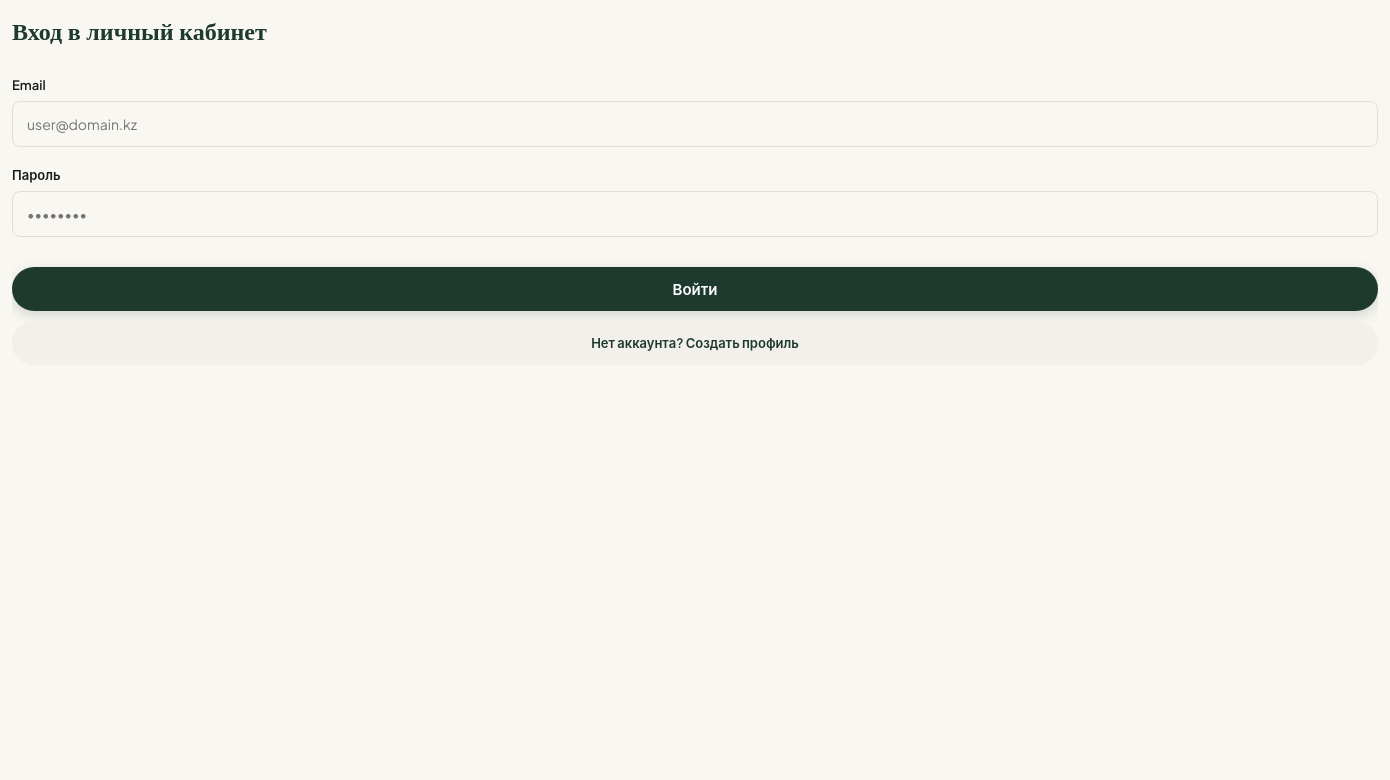
Test: LoginForm › регистрация показывает details и помечает неверное поле
Click the button "Нет аккаунта? Создать профиль" at coordinates (695, 344), box [12,322,1378,366]
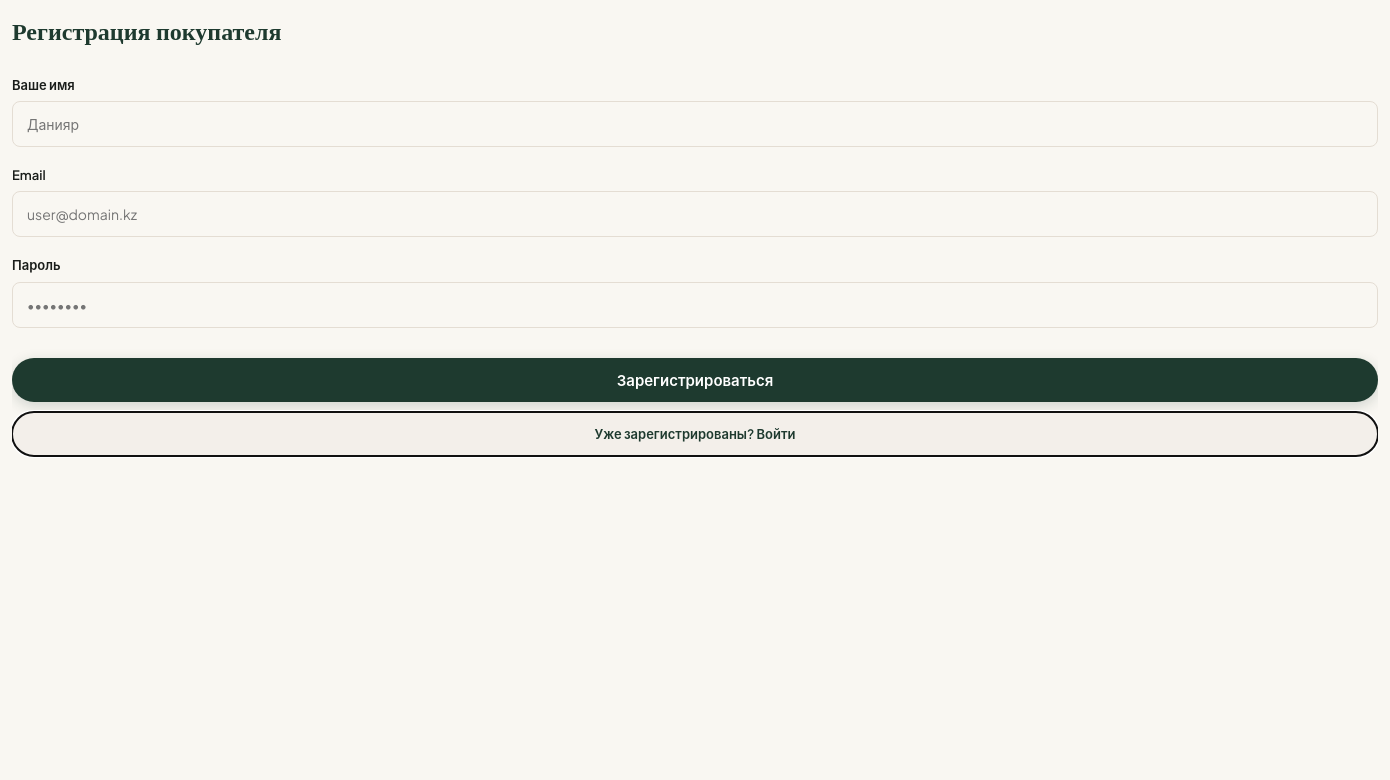
Type "Покупатель" into the field labelled "Ваше имя" at coordinates (695, 124), box [12,101,1378,147]
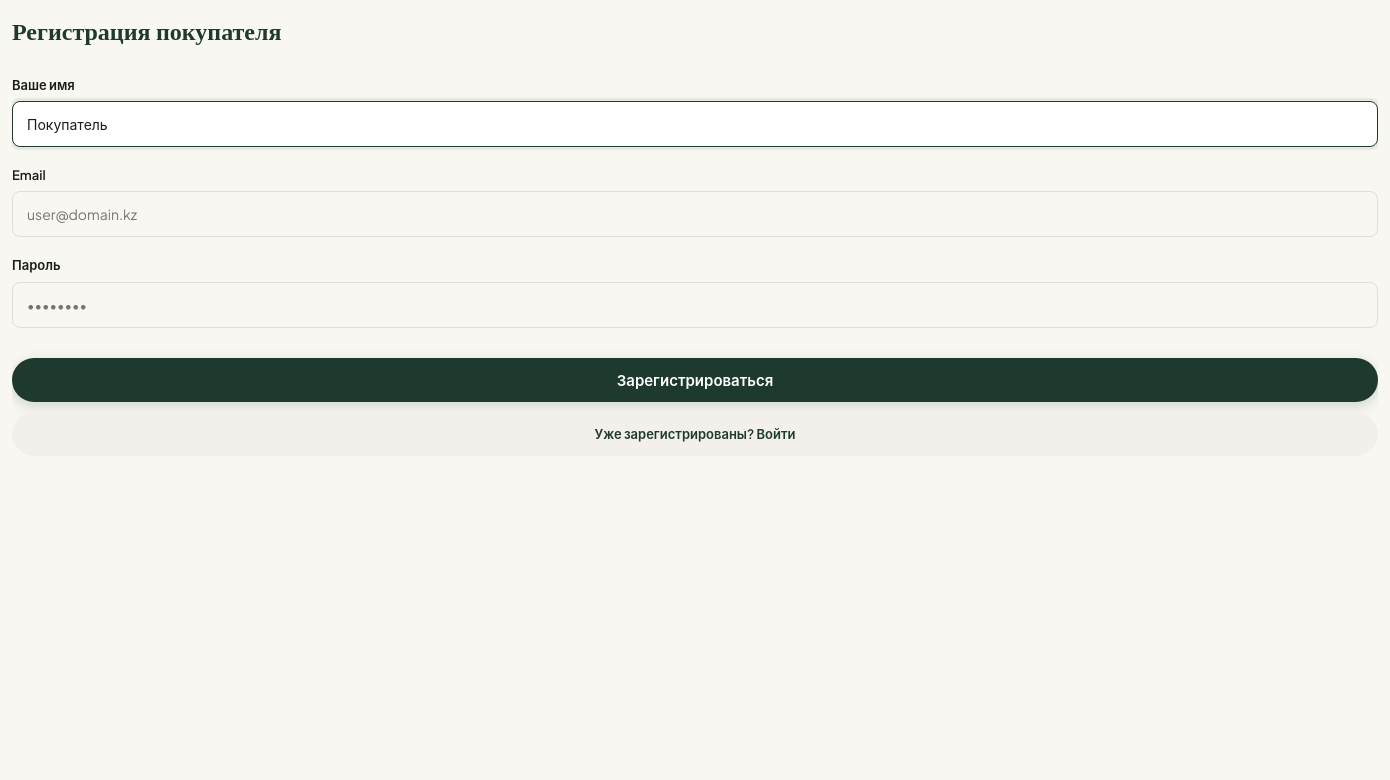
Type "buyer@test.kz" into the field labelled "Email" at coordinates (695, 214), box [12,192,1378,238]
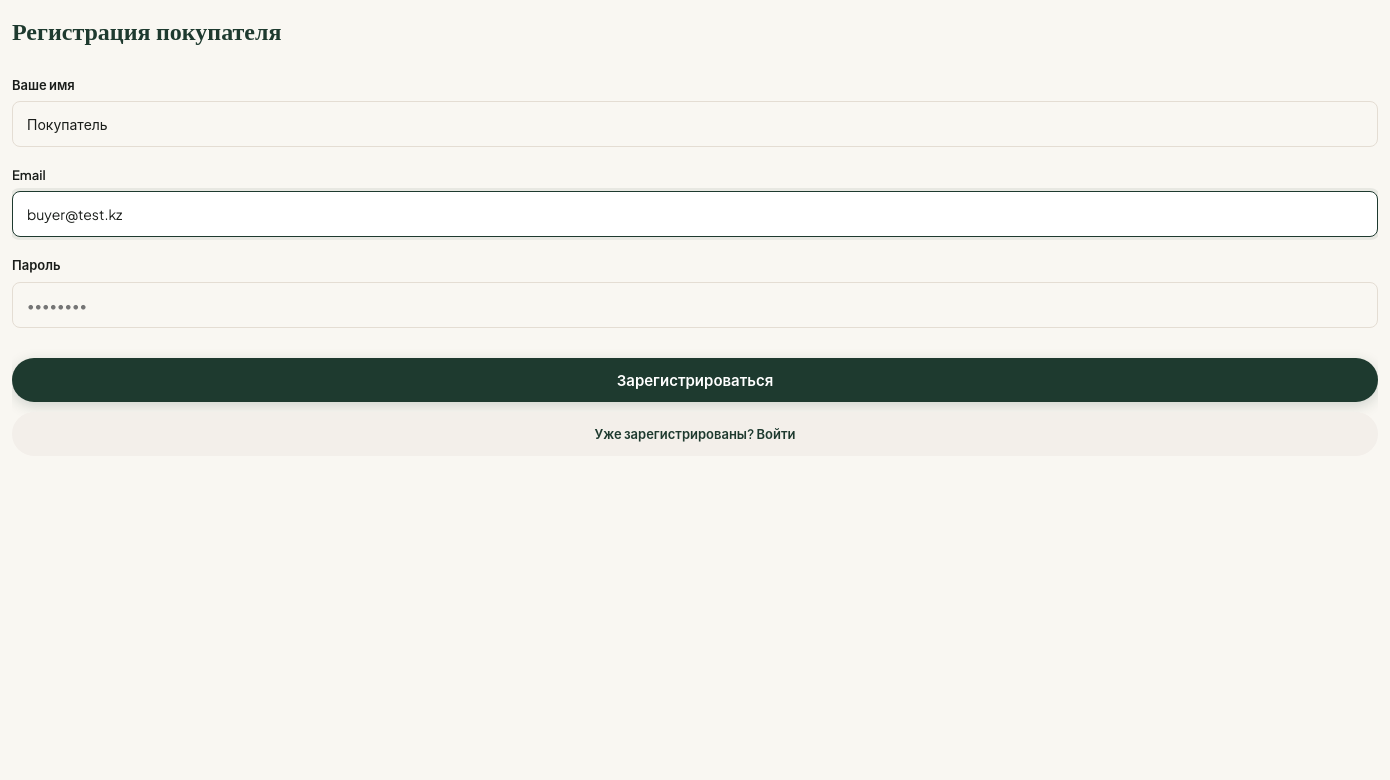
Type "secret123" into the password field labelled "Пароль" at coordinates (695, 305), box [12,282,1378,328]
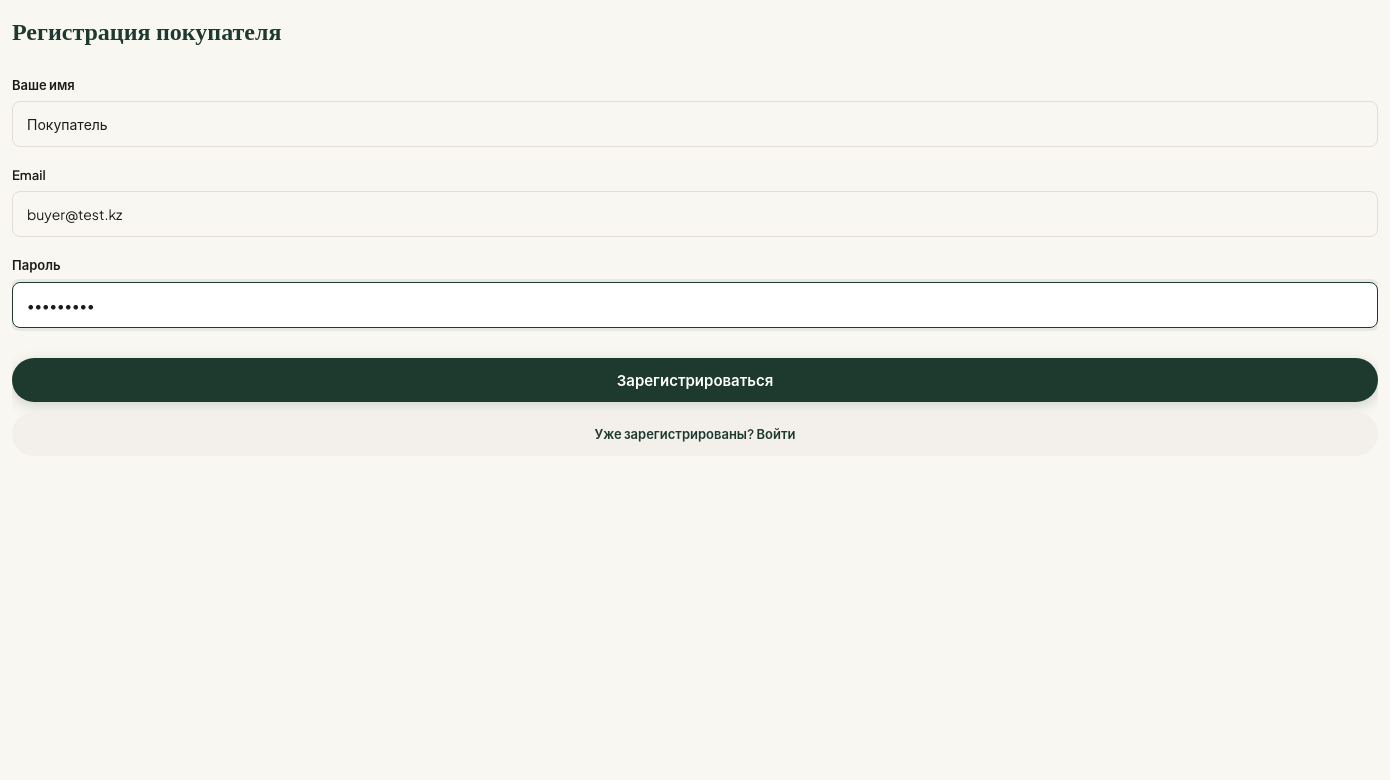
Click the button "Зарегистрироваться" at coordinates (695, 380), box [12,358,1378,402]
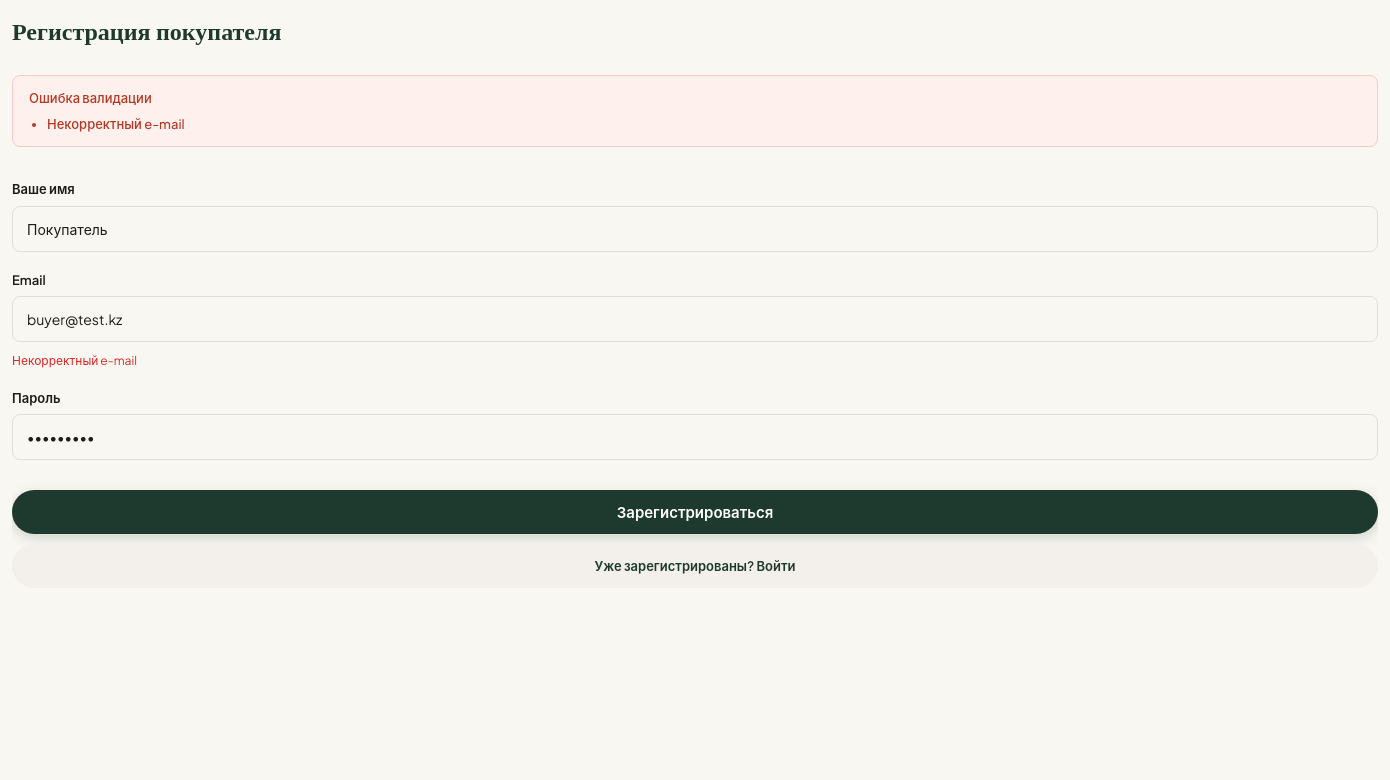
Now the list item "Некорректный e-mail" is shown, box [47,116,185,132]
